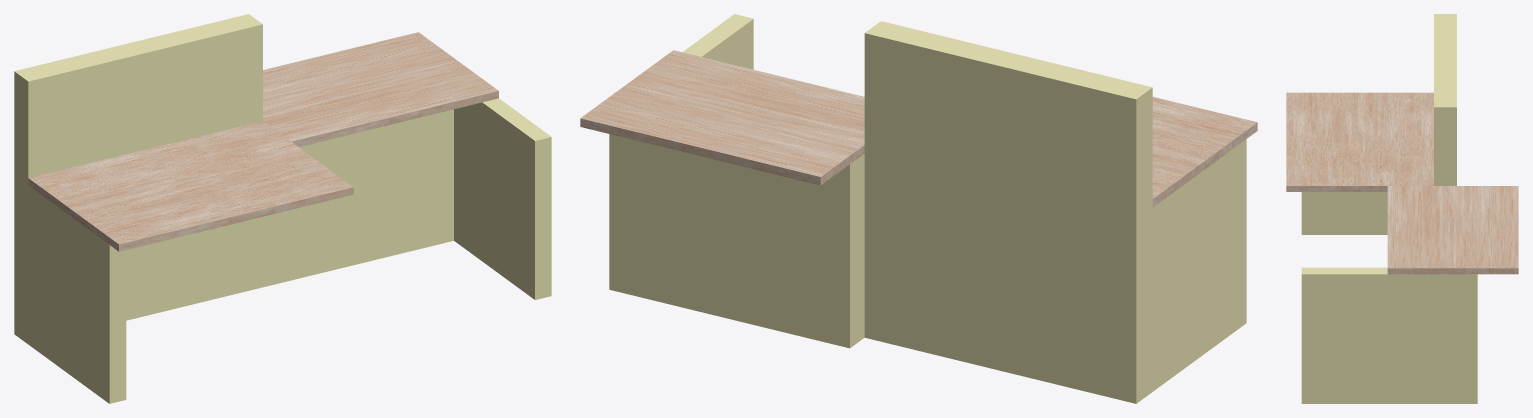
File: PvzTable.glb
3 renders of one model, left to right at view 1: azimuth 30°, elevation 25°; view 2: azimuth 150°, elevation 25°; view 3: azimuth 270°, elevation 25°, orthographic. The views are drawn at different scales.
Visible parts, largest first — view 1: Front1-col, Table1-col, Front2-col, Table2-col, Rightside-col, Leftside-col; view 2: Front1-col, Front2-col, Table2-col, Leftside-col, Table1-col, Rightside-col; view 3: Rightside-col, Table1-col, Table2-col, Front2-col, Front1-col, Leftside-col.
Boxes of the visible parts, x1,y1,x2,y2 form: Front1-col: (14,14,262,343); Table1-col: (28,121,353,251); Front2-col: (263,109,453,287); Table2-col: (263,32,498,146); Rightside-col: (454,98,551,299); Leftside-col: (28,186,126,403); Front1-col: (864,21,1152,403); Front2-col: (609,134,864,348); Table2-col: (580,50,864,185); Leftside-col: (1152,139,1246,391); Table1-col: (1152,97,1257,207); Rightside-col: (682,14,753,69); Rightside-col: (1301,267,1433,403); Table1-col: (1286,92,1433,191); Table2-col: (1387,186,1518,274); Front2-col: (1434,274,1477,403); Front1-col: (1434,14,1456,185); Leftside-col: (1301,192,1387,234).
Size of the model in its own units: 2.56 by 1.45 by 1.43.
Materials: 2 (1 with a texture image).
